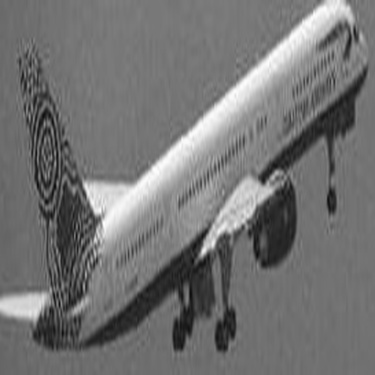airplane: (3, 4, 372, 371)
